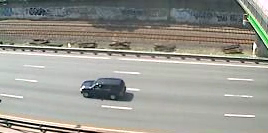car: (77, 75, 129, 103)
